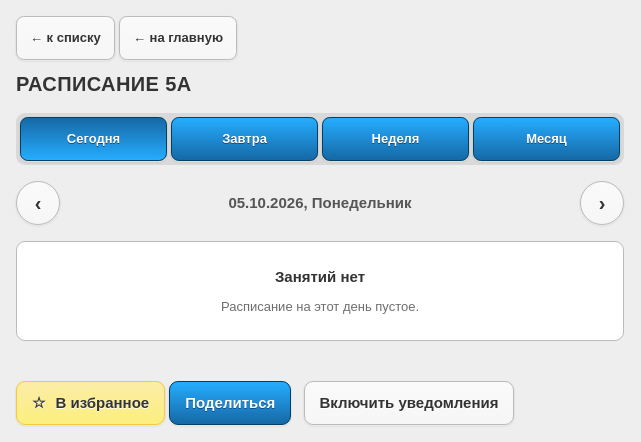
it: Schedule screen › free day navigation › steps back to yesterday with the «‹» control and requests that date
The width and height of the screenshot is (641, 442).
What coordinates should you click on to do the following:
click the button named "Предыдущий день"
I would click on:
 (38, 203)
Its box is [16,181,60,225].
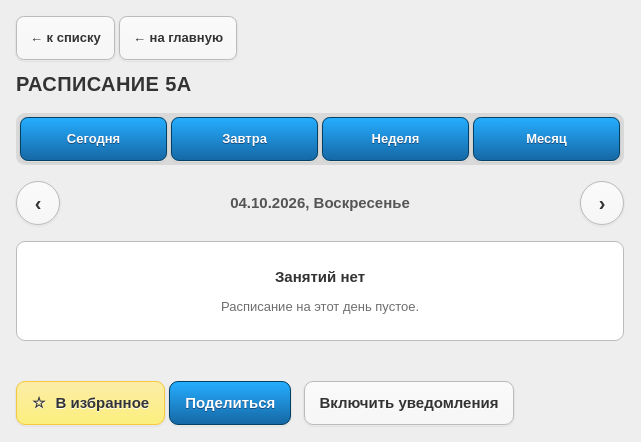
Check: the text "04.10.2026, Воскресенье" is shown, box [230,192,410,214]
